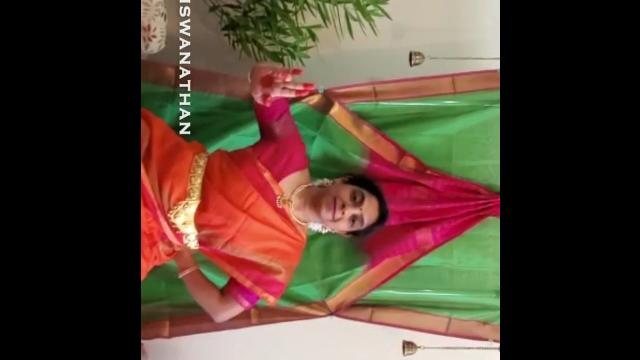tripataka: (234, 52, 320, 114)
